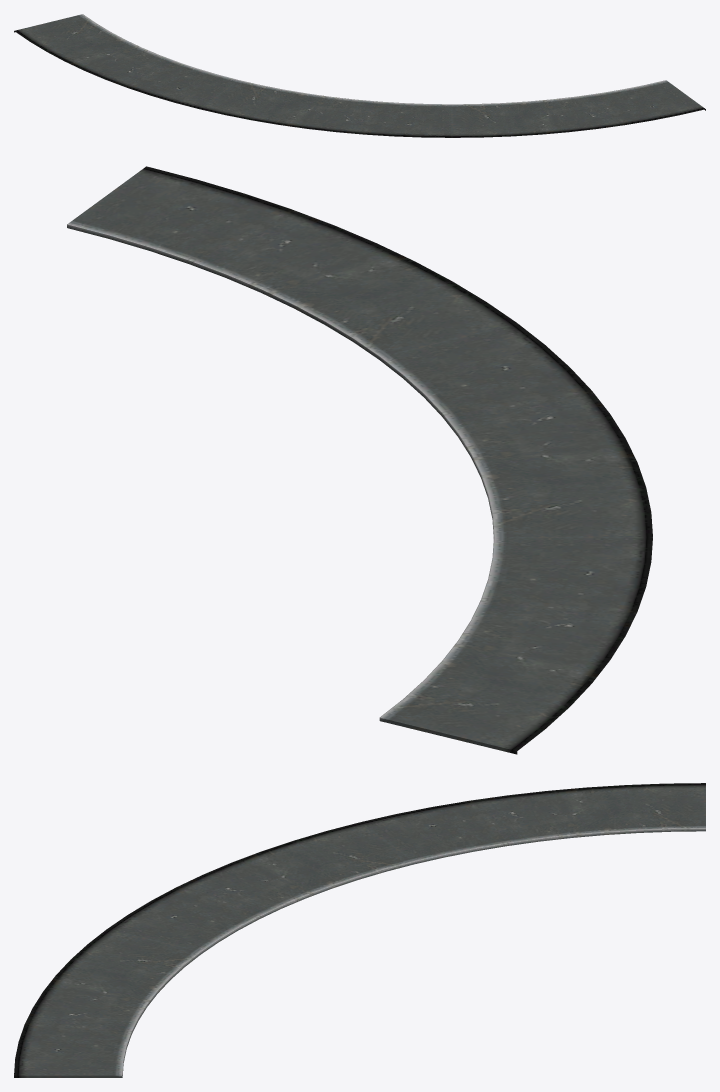
File: Neon_Wall_6x4_Bend_Trim.FBX
3 renders of one model, top to bottom at view 1: azimuth 30°, elevation 25°; view 2: azimuth 150°, elevation 25°; view 3: azimuth 270°, elevation 25°, orthographic. The views are drawn at different scales.
Visible parts, largest first — view 1: Neon_Wall_6x4_Bend_Trim; view 2: Neon_Wall_6x4_Bend_Trim; view 3: Neon_Wall_6x4_Bend_Trim.
Part boxes in pixels (x1=…): Neon_Wall_6x4_Bend_Trim: x1=14, y1=14, x2=705, y2=137; Neon_Wall_6x4_Bend_Trim: x1=67, y1=166, x2=652, y2=754; Neon_Wall_6x4_Bend_Trim: x1=14, y1=783, x2=705, y2=1077.
Bounding box in the file's own units: 3.82 × 0.0142 × 3.82.
